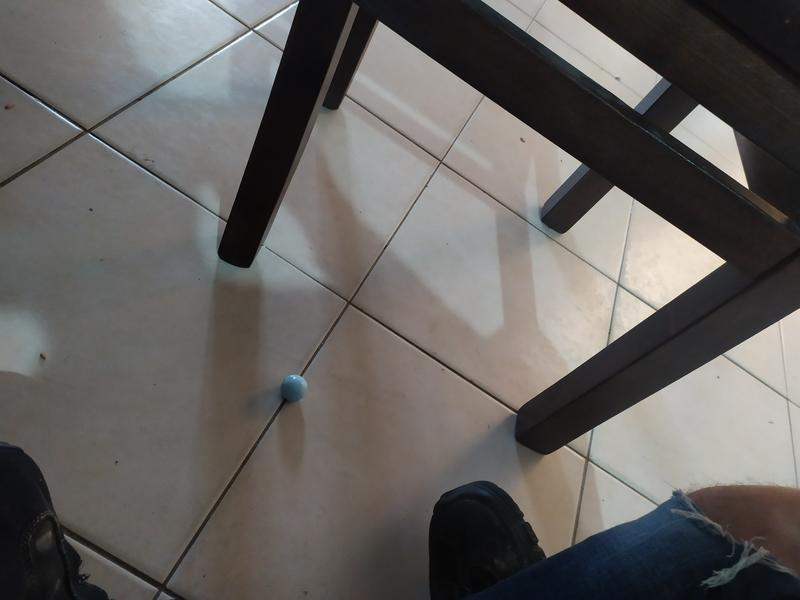Warning: (279, 373, 310, 403)
